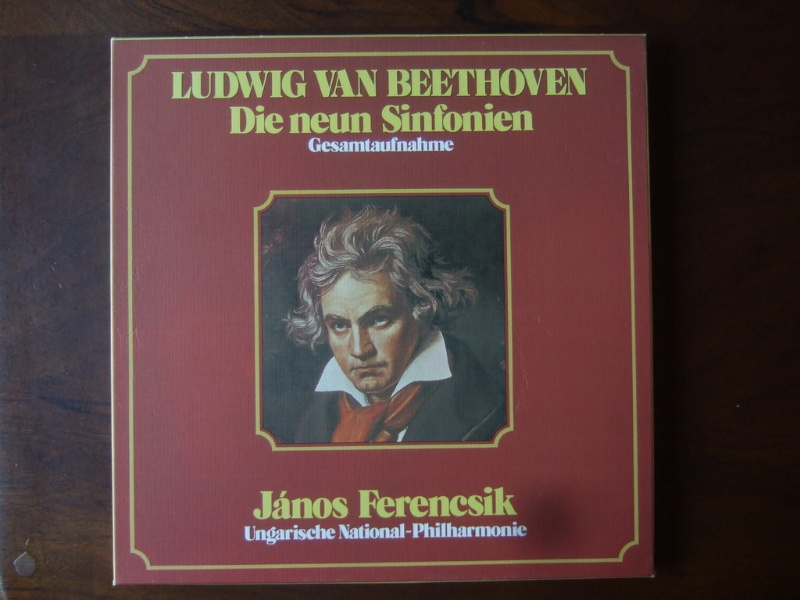book: (73, 17, 673, 589)
